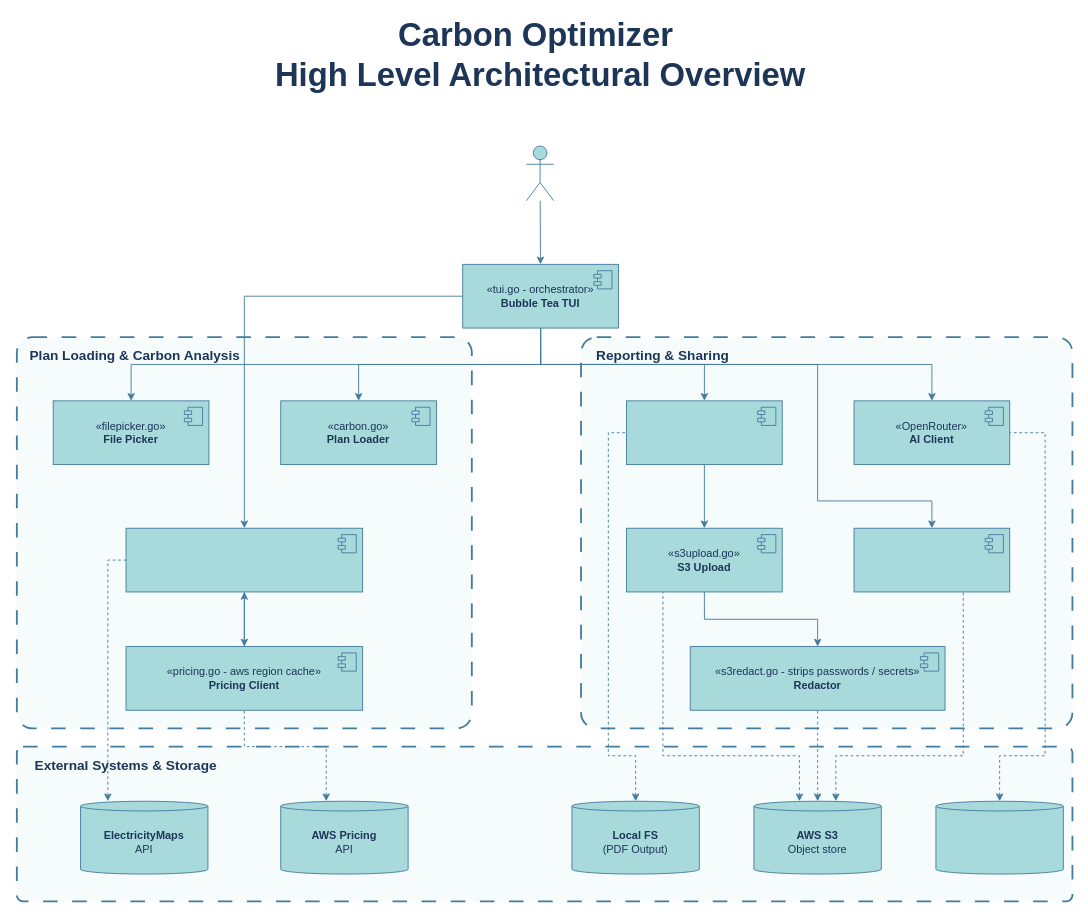
Some shapes in this 1088 by 917 pixel diagram are drawn without their labels. Here are the shapes that lost their labels. From the top down, the centre of each, then its label:
At [540,173]: "User / Developer".
At [704,432]: "«export_pdf.go» PDF Builder".
At [244,559]: "«impacts, hourly series, schedule» Carbon Engine".
At [931,559]: "«s3source.go» S3 Source".
At [999,837]: "OpenRouter API".
